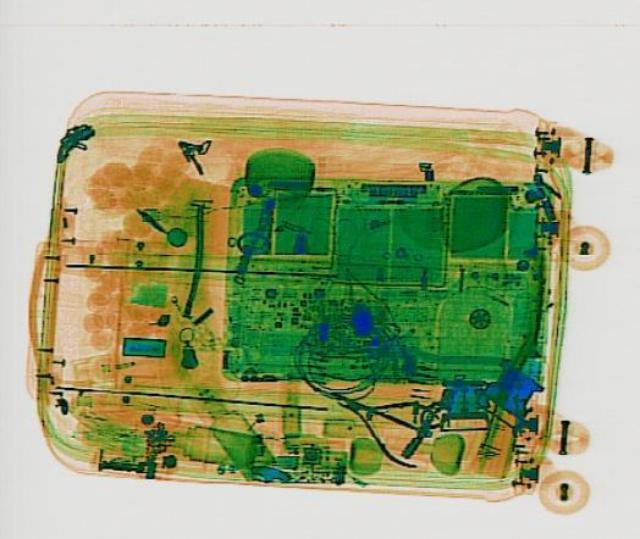Pliers: (314, 371, 454, 469)
